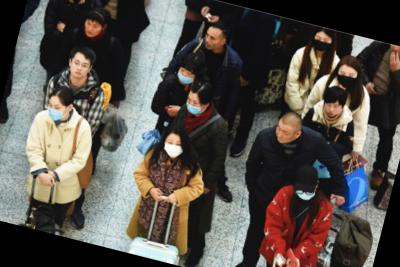with_mask: (161, 136, 187, 161), (44, 100, 68, 123), (174, 66, 197, 88), (184, 95, 207, 117), (335, 68, 359, 89), (312, 34, 333, 55), (295, 188, 317, 203)
without_mask: (67, 56, 92, 82), (82, 18, 105, 40), (273, 124, 295, 147), (202, 30, 223, 52), (323, 101, 343, 119)
